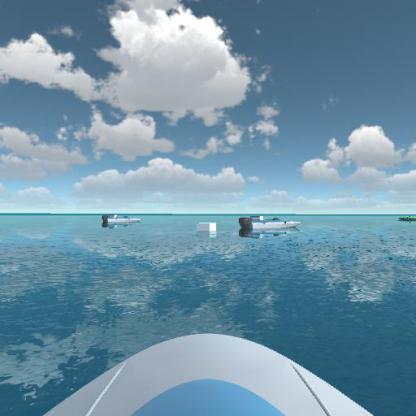usv0: (395, 210, 415, 226)
usv1: (235, 210, 302, 238), (100, 209, 146, 230)
